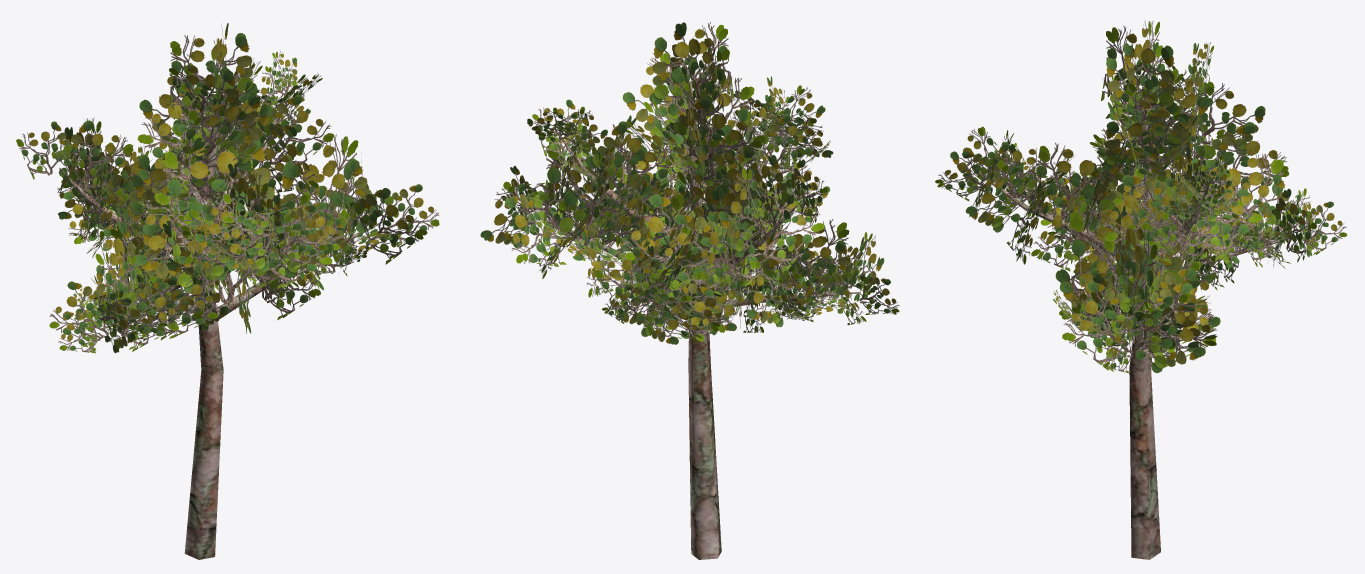
The model's file is tree2.glb.
3 renders of one model, left to right at view 1: azimuth 30°, elevation 25°; view 2: azimuth 150°, elevation 25°; view 3: azimuth 270°, elevation 25°, orthographic.
Parts seen in each view (by area): view 1: Trunk; view 2: Trunk; view 3: Trunk.
Boxes of the visible parts, box(x1,y1,x2,y2) form: Trunk: box(16, 22, 439, 559); Trunk: box(480, 22, 899, 559); Trunk: box(935, 20, 1347, 559).
Bounding box in the file's own units: 27.42 × 34.73 × 24.87.
2 materials, 2 textured.
